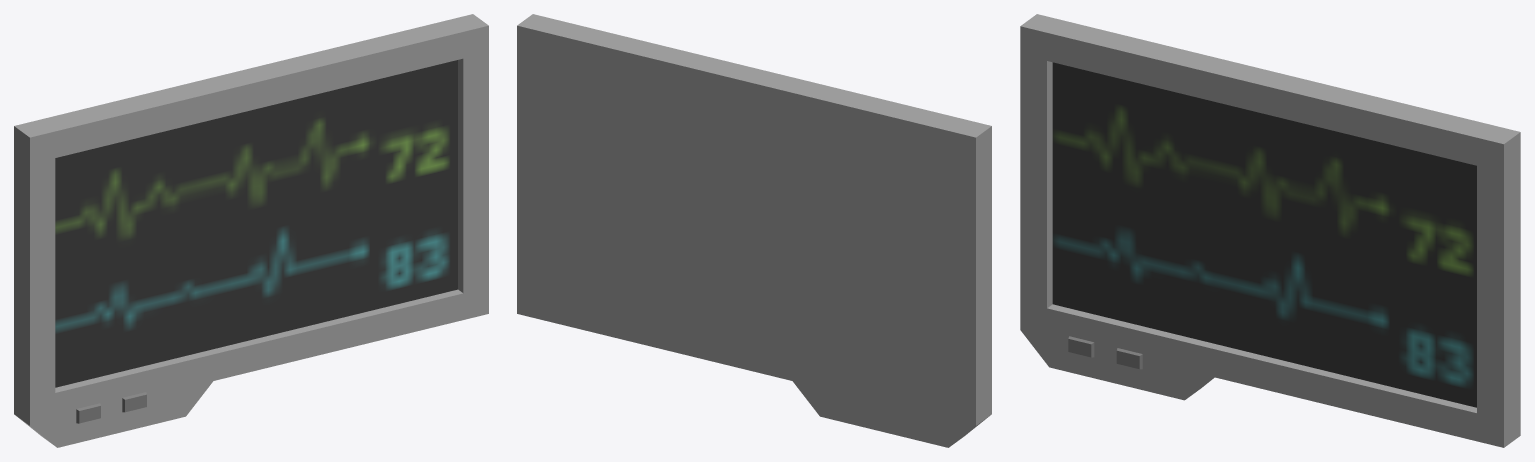
The model's file is SM_Props_Interior_Generic_Hospital_HeartMonitor.fbx.
3 views of the same model, side by side, from view 1: azimuth 30°, elevation 25°; view 2: azimuth 150°, elevation 25°; view 3: azimuth 330°, elevation 25° (orthographic). The views are drawn at different scales.
Visible parts, largest first — view 1: SM_Props_Interior_Generic_Hospital_HeartMonitor; view 2: SM_Props_Interior_Generic_Hospital_HeartMonitor; view 3: SM_Props_Interior_Generic_Hospital_HeartMonitor.
Boxes of the visible parts, x1,y1,x2,y2 form: SM_Props_Interior_Generic_Hospital_HeartMonitor: (14,14,488,447); SM_Props_Interior_Generic_Hospital_HeartMonitor: (517,14,991,447); SM_Props_Interior_Generic_Hospital_HeartMonitor: (1020,14,1520,447).
Size of the model in its own units: 50 by 33 by 3.34.
